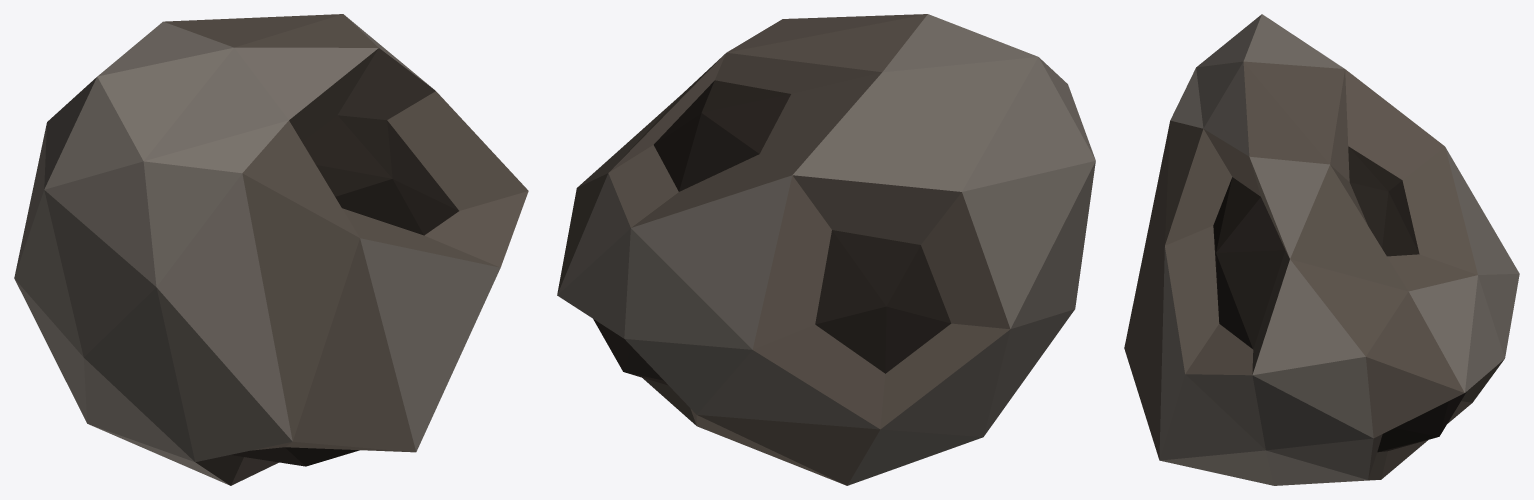
File: Asteroid2.fbx
The picture shows the model from 3 angles, left to right: view 1: azimuth 30°, elevation 25°; view 2: azimuth 150°, elevation 25°; view 3: azimuth 270°, elevation 25°; orthographic projection. The views are drawn at different scales.
Parts seen in each view (by area): view 1: Asteroid2; view 2: Asteroid2; view 3: Asteroid2.
Part boxes in pixels (x1,y1,x2,y2): Asteroid2: [14, 14, 528, 485]; Asteroid2: [557, 14, 1095, 485]; Asteroid2: [1124, 14, 1519, 485].
Bounding box in the file's own units: 1.65 × 1.49 × 1.37.
